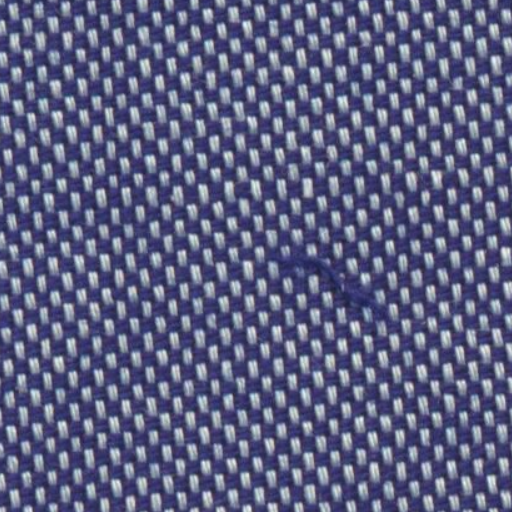DuanSha: (264, 236, 398, 331)
